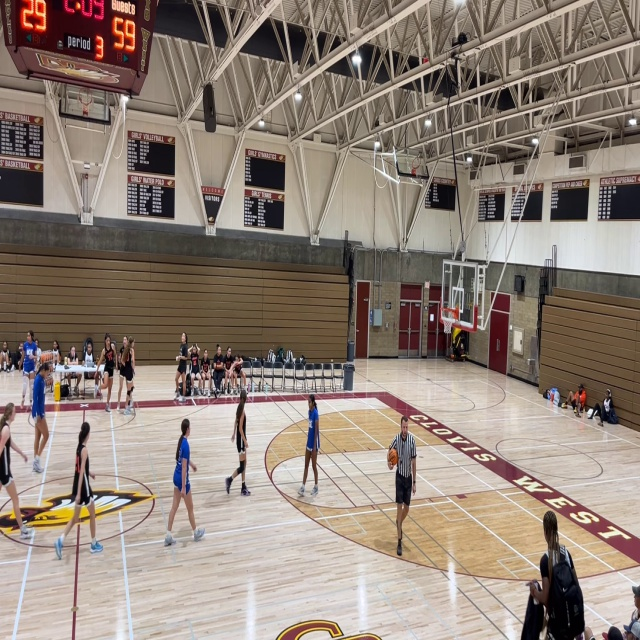Basketball: (387, 448, 398, 465)
